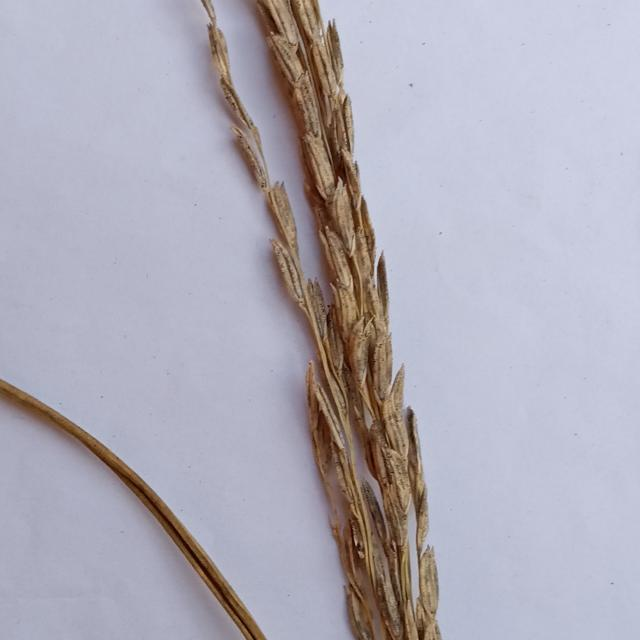Neck_Blast: (258, 0, 437, 639), (217, 94, 400, 638)
